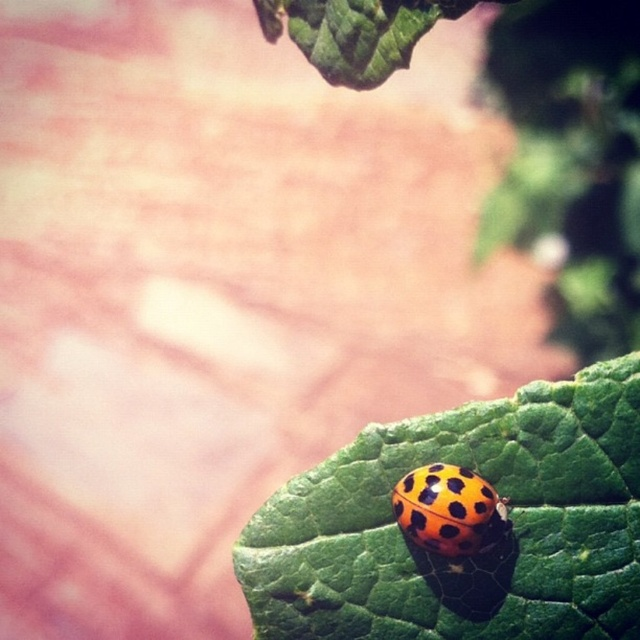Ladybug: (390, 463, 525, 556)
